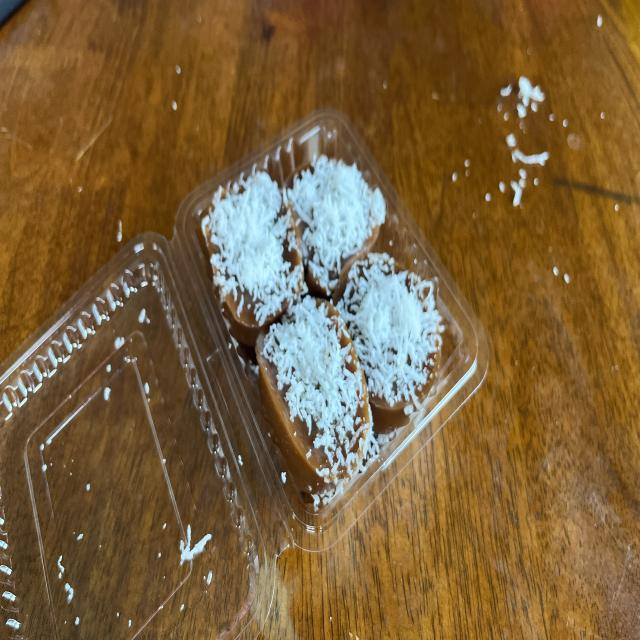Kuih lompang: (256, 296, 371, 496), (338, 253, 445, 433), (201, 169, 304, 347), (288, 156, 386, 302)
